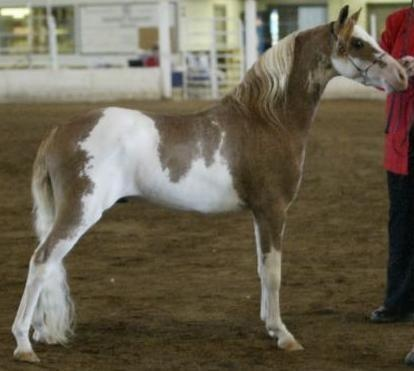horse: (11, 4, 409, 365)
